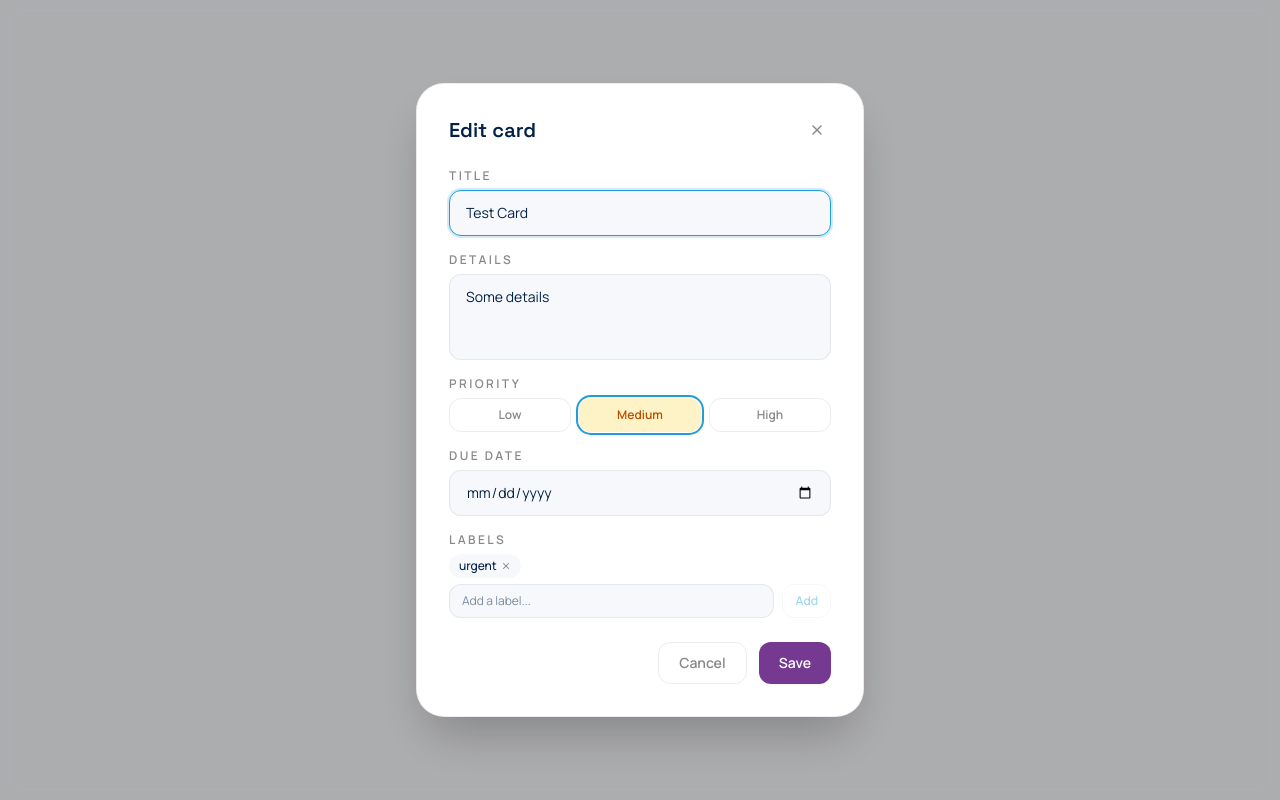
Test: CardEditModal › removes a label when X is clicked
expect the text "urgent" is shown: met, box [449,554,521,578]
Click the button named "remove label urgent".
click(506, 566)  # box [501,561,511,571]
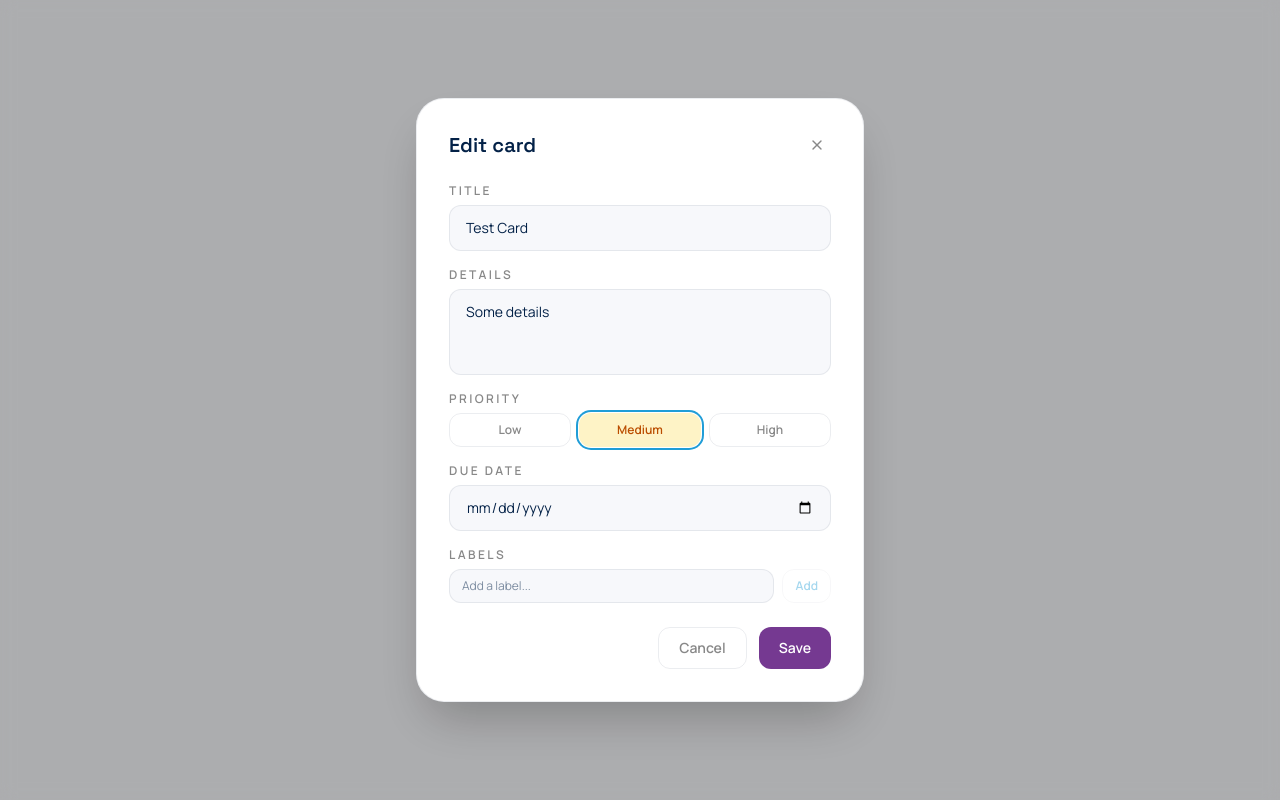
expect the text "urgent" is gone: met
